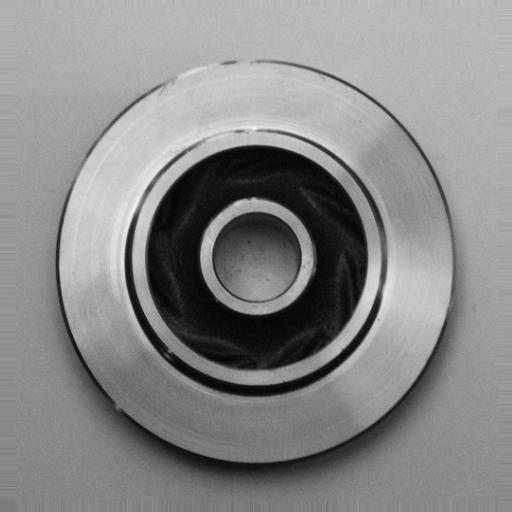scratch: (150, 48, 258, 94), (180, 116, 269, 150)
unpolished_casting: (54, 56, 457, 471)
